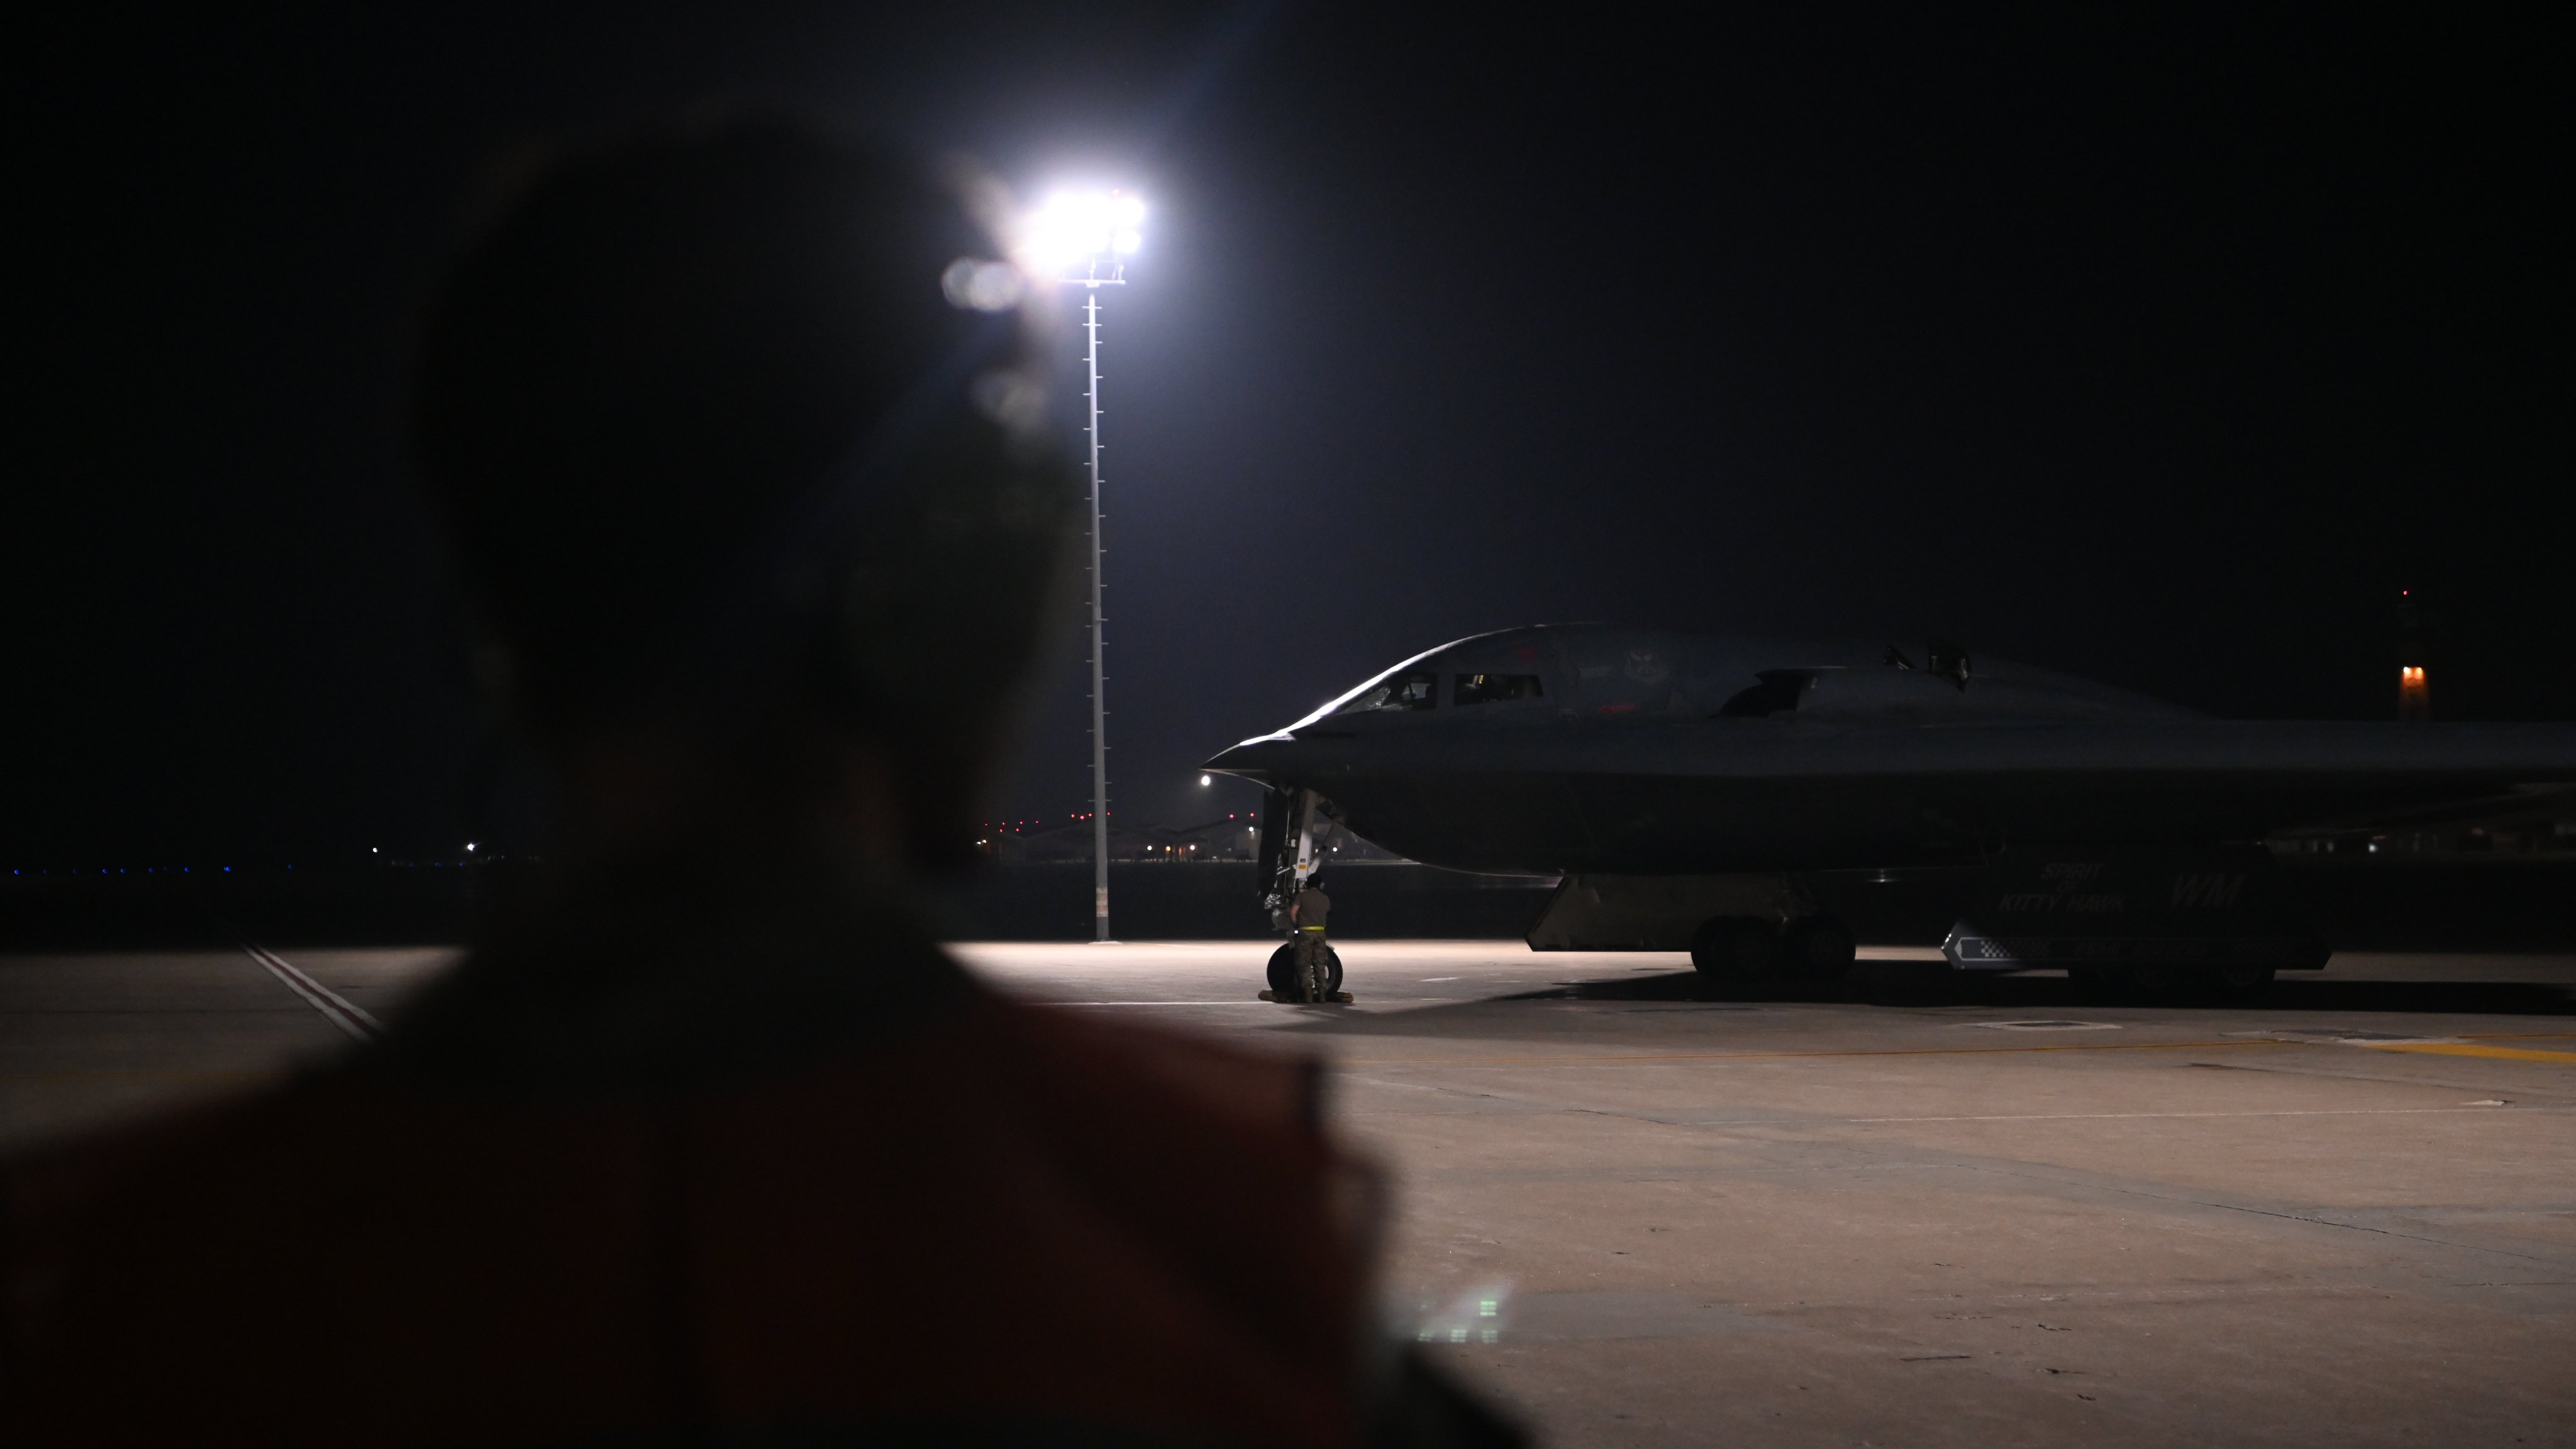B2: (1196, 621, 2576, 1003)
